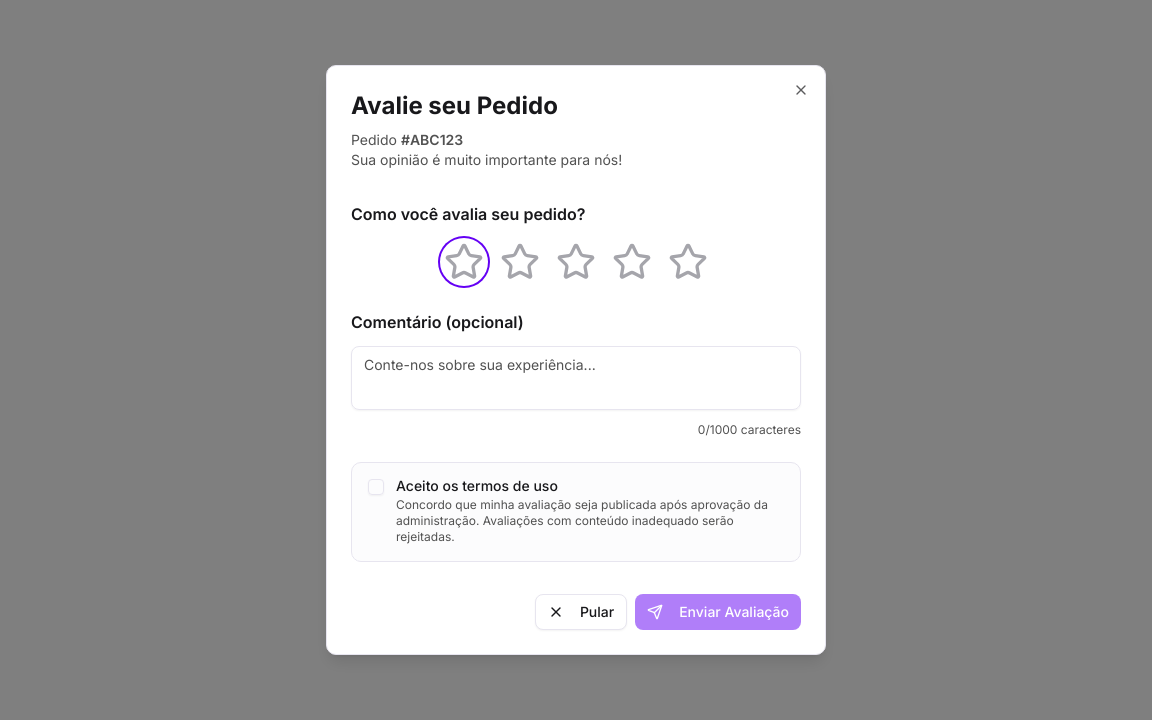
Test: ReviewModal › deve mostrar contador de caracteres do comentário
In the text box with placeholder "Conte-nos sobre sua experiência...": (576, 378) left=351, top=346, right=801, bottom=410, type "Teste"
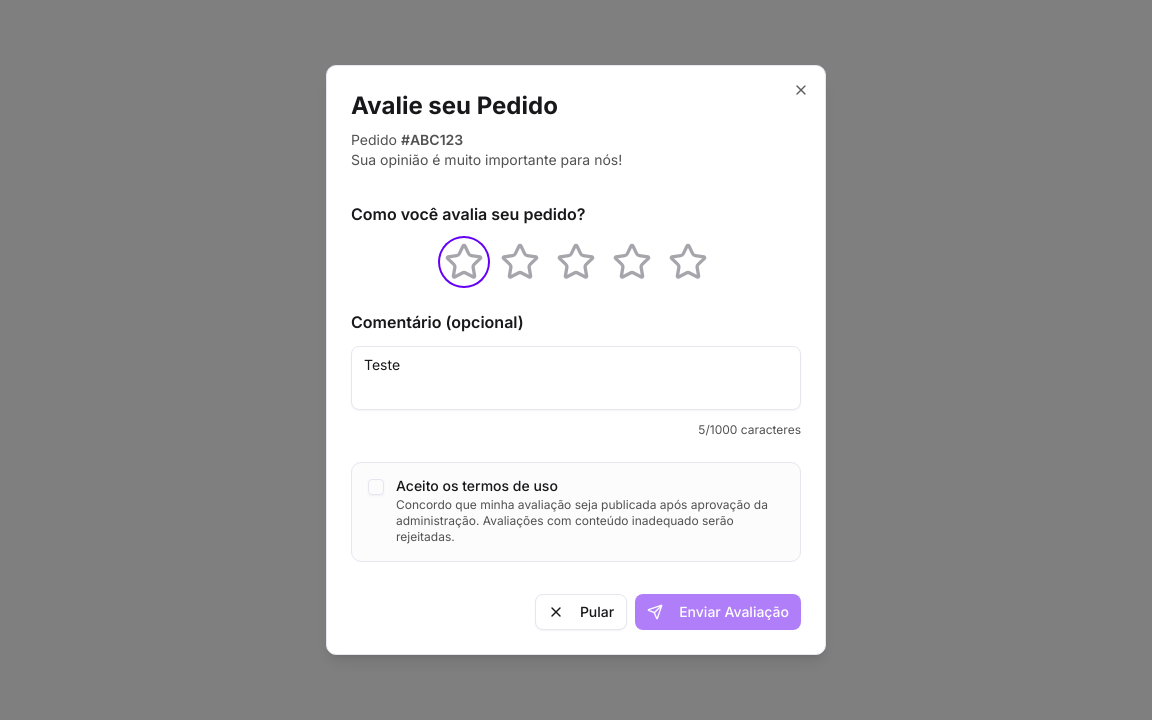
Result: the text "5/1000 caracteres" is shown at left=698, top=422, right=801, bottom=437
